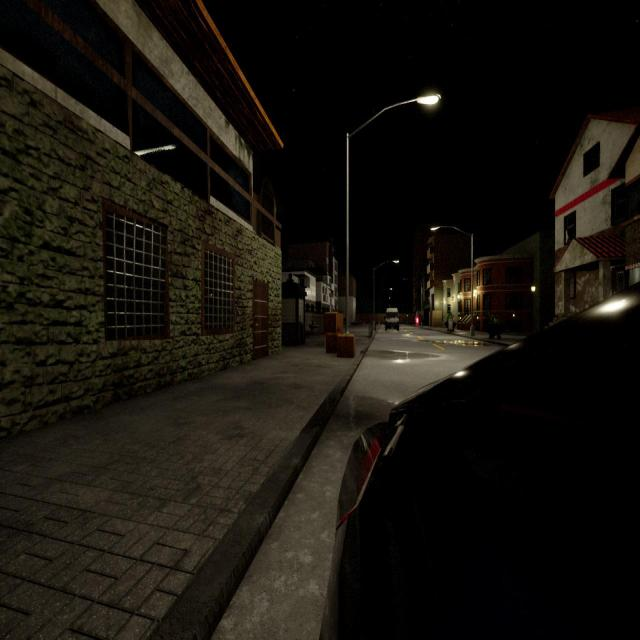Vehicle: (320, 284, 640, 638), (385, 308, 399, 331)
traffic_light: (406, 314, 408, 318)
